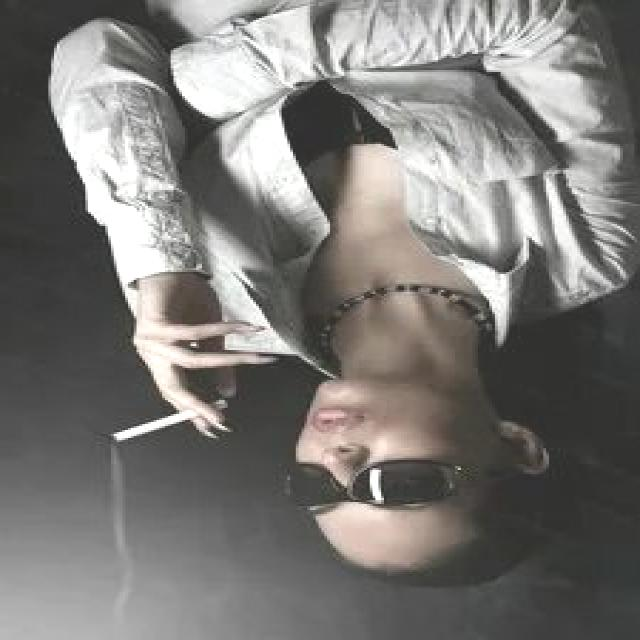cigarette: (108, 398, 233, 448)
